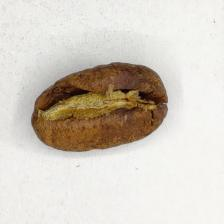NG: (40, 80, 148, 135)
